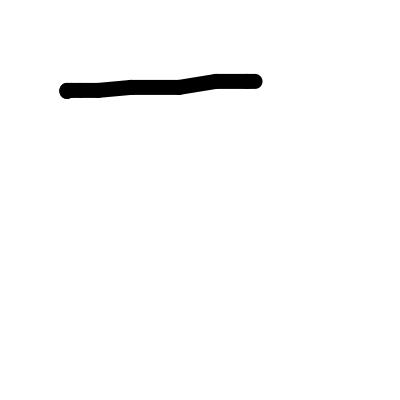minus: (59, 74, 263, 99)
